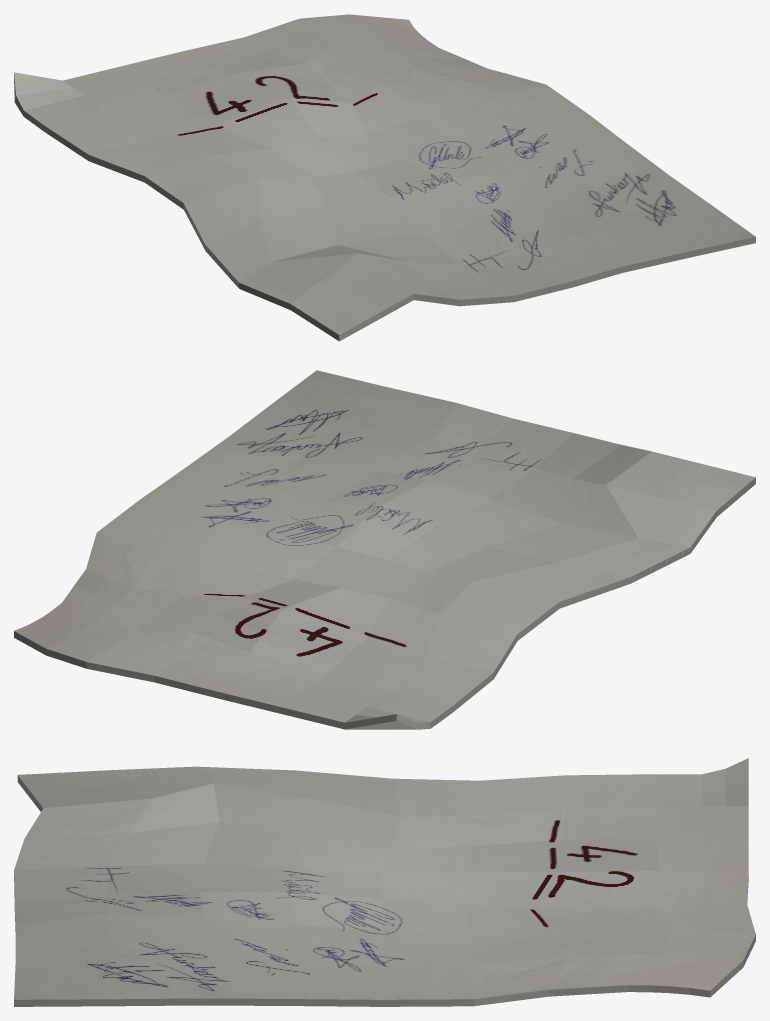
The model's file is kağıt.fbx.
The picture shows the model from 3 angles, top to bottom: view 1: azimuth 30°, elevation 25°; view 2: azimuth 150°, elevation 25°; view 3: azimuth 270°, elevation 25°; orthographic projection. The views are drawn at different scales.
Parts seen in each view (by area): view 1: Plane.001; view 2: Plane.001; view 3: Plane.001.
Boxes of the visible parts, x1=… form: Plane.001: x1=14, y1=14, x2=755, y2=341; Plane.001: x1=14, y1=370, x2=755, y2=729; Plane.001: x1=14, y1=758, x2=755, y2=1006.
Bounding box in the file's own units: 1026 × 74.71 × 1377.
Materials: 1 (1 with a texture image).
